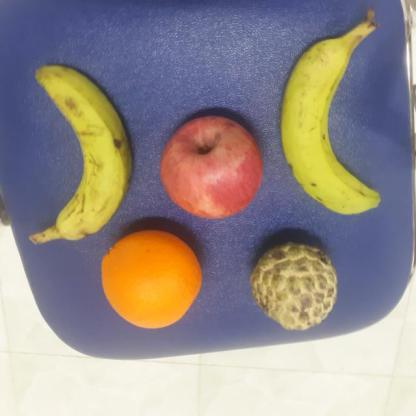annona: (249, 240, 340, 333)
apple: (159, 115, 265, 221)
banana: (280, 35, 387, 217), (29, 61, 134, 244)
orange: (100, 229, 204, 331)
